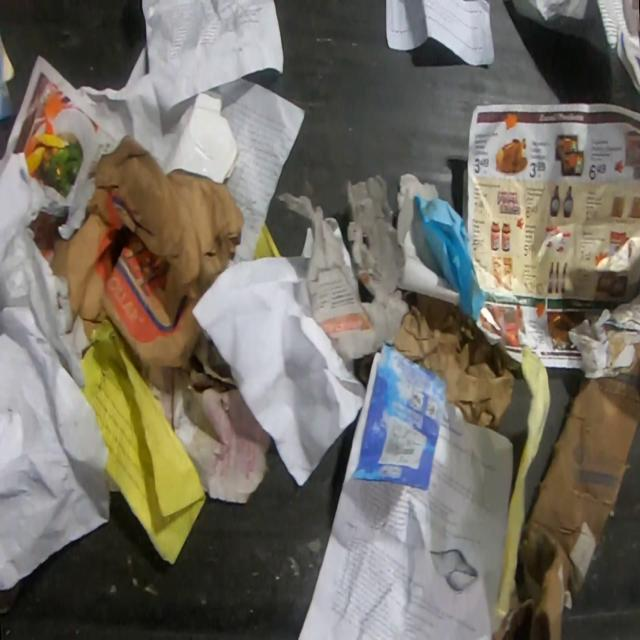cardboard: (491, 373, 640, 640), (275, 173, 411, 364)
rigid_plastic: (76, 73, 239, 185)
